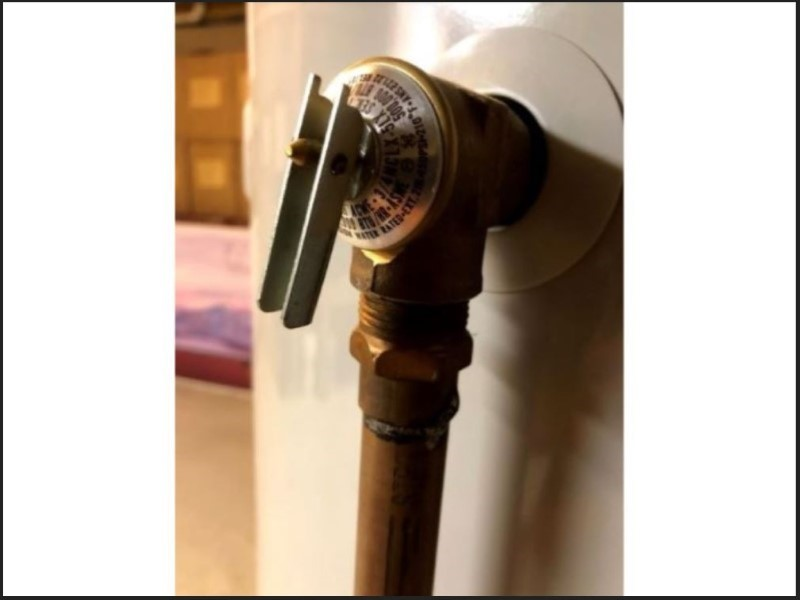Valve: (257, 53, 452, 341)
